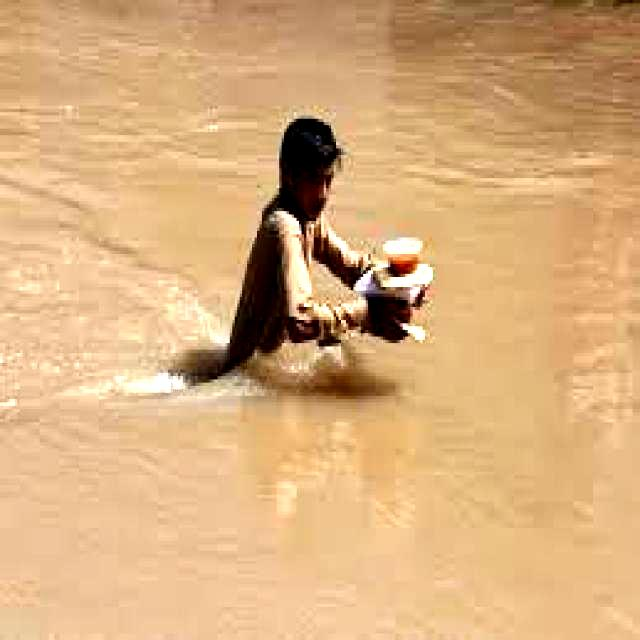civilian: (206, 111, 441, 407)
